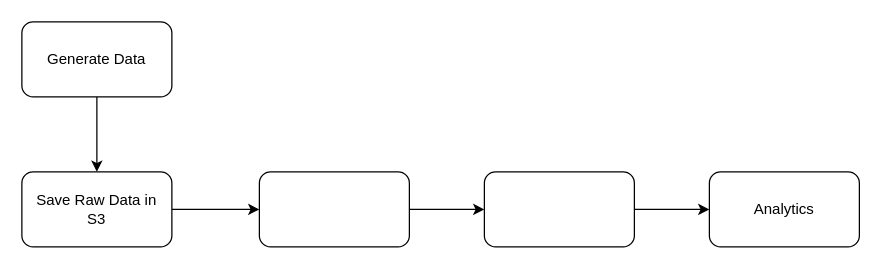
Some shapes in this 881 by 269 pixel diagram are drawn without their labels. The centre of each missing label's shape, as x and y in pixels:
"PostgreSQL DB (Dockarized)" belongs at (558,209).
"Python ETL" belongs at (333,209).
